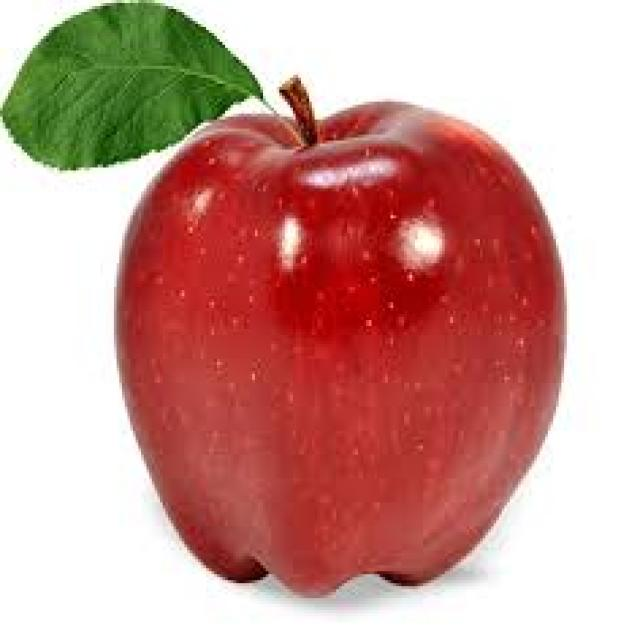Apel: (114, 93, 566, 589)
